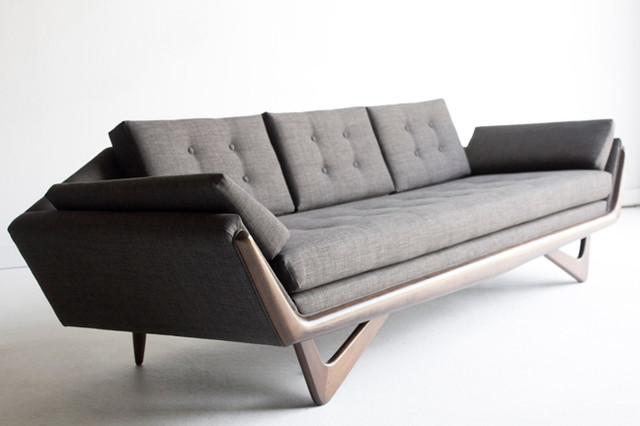chairs: (8, 98, 640, 407)
